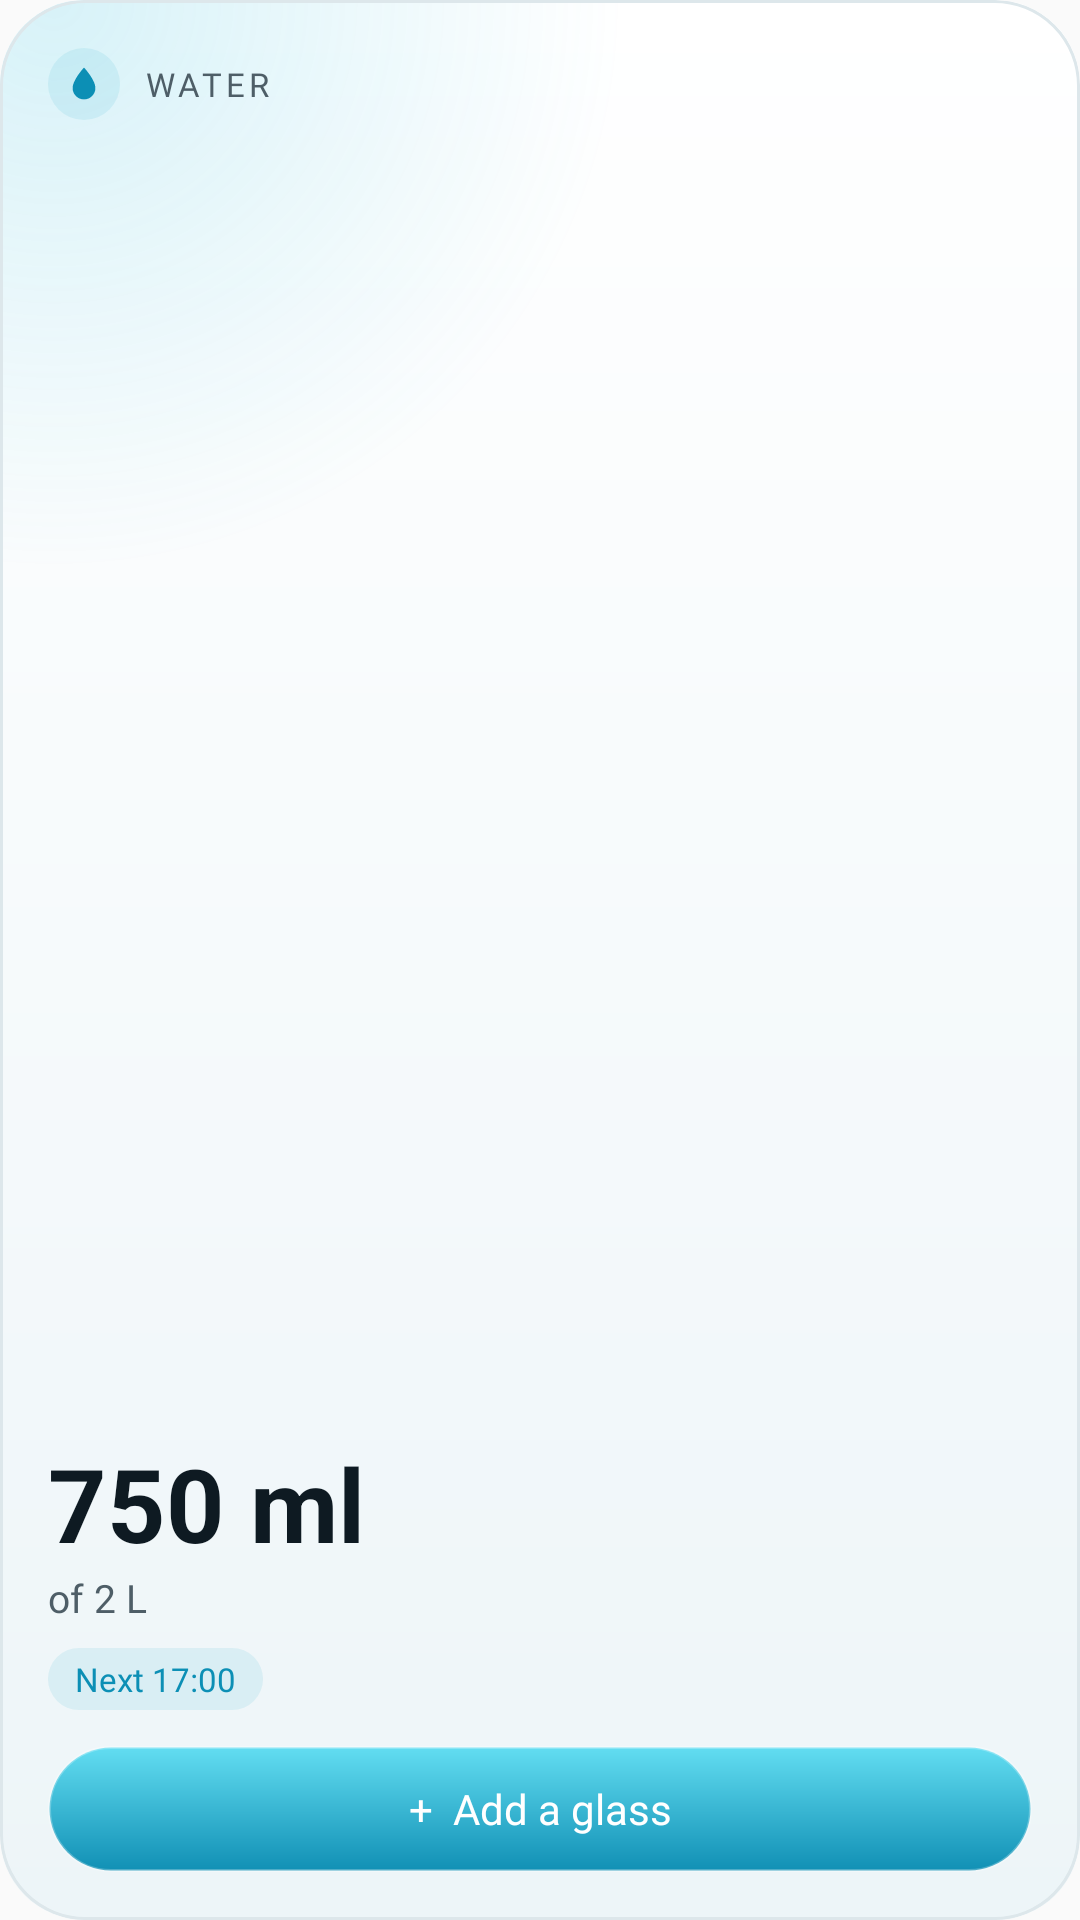

Locate icon controls on the screen. Image size 1080x1920, boxes as bbox=(x1, y1, x2, y2).
widget drop: bbox=(72, 67, 96, 100)
